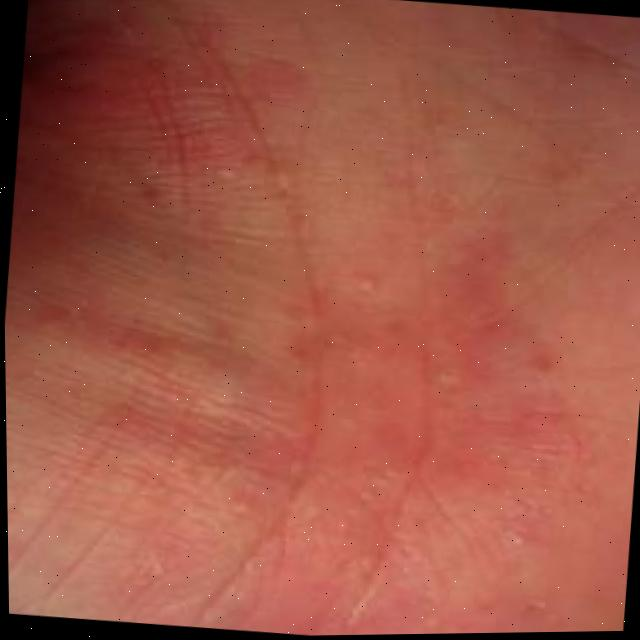Eczema: (0, 0, 605, 638)
